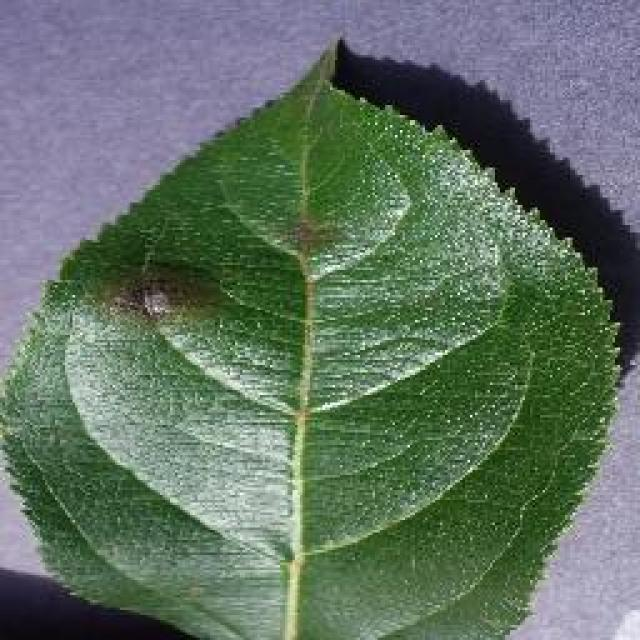apple scab disease: (0, 32, 628, 638)
